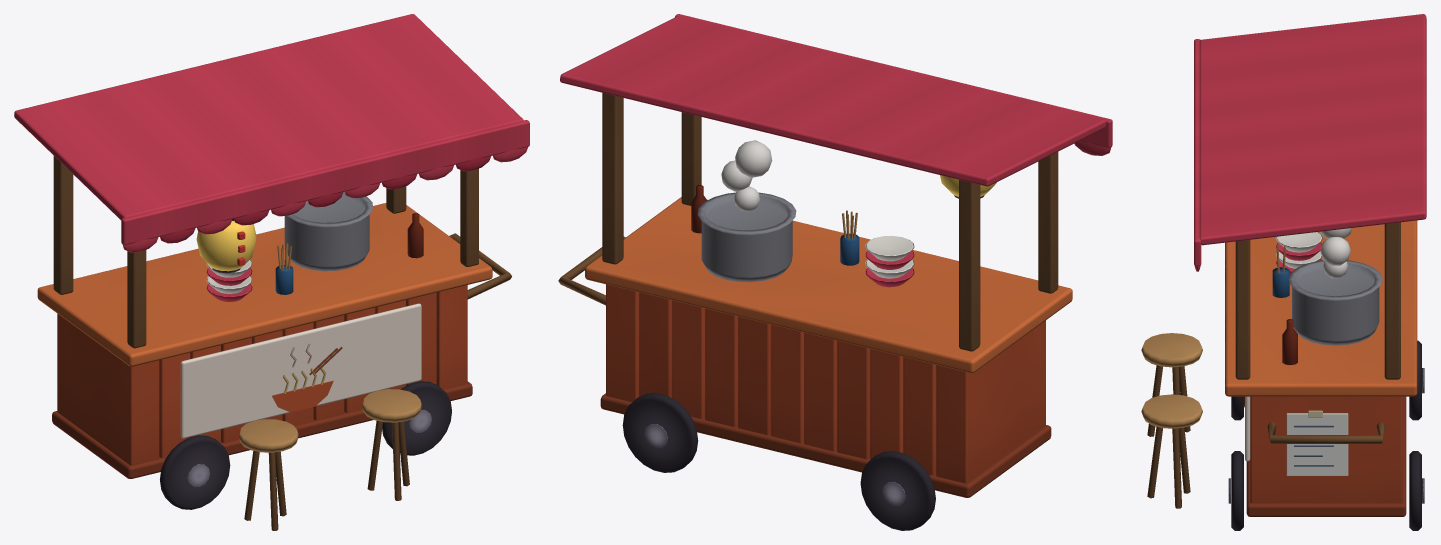
The model's file is noodle_cart.glb.
The picture shows the model from 3 angles, left to right: view 1: azimuth 30°, elevation 25°; view 2: azimuth 150°, elevation 25°; view 3: azimuth 270°, elevation 25°; orthographic projection. The views are drawn at different scales.
Visible parts, largest first — view 1: noodle_cart_main, noodle_cart_glow; view 2: noodle_cart_main; view 3: noodle_cart_main.
Boxes of the visible parts, <box> form: noodle_cart_main: <box>14,14,529,530</box>; noodle_cart_glow: <box>196,221,256,271</box>; noodle_cart_main: <box>558,14,1112,530</box>; noodle_cart_main: <box>1141,14,1426,530</box>.
Bounding box in the file's own units: 2.76 × 2.19 × 1.57.
